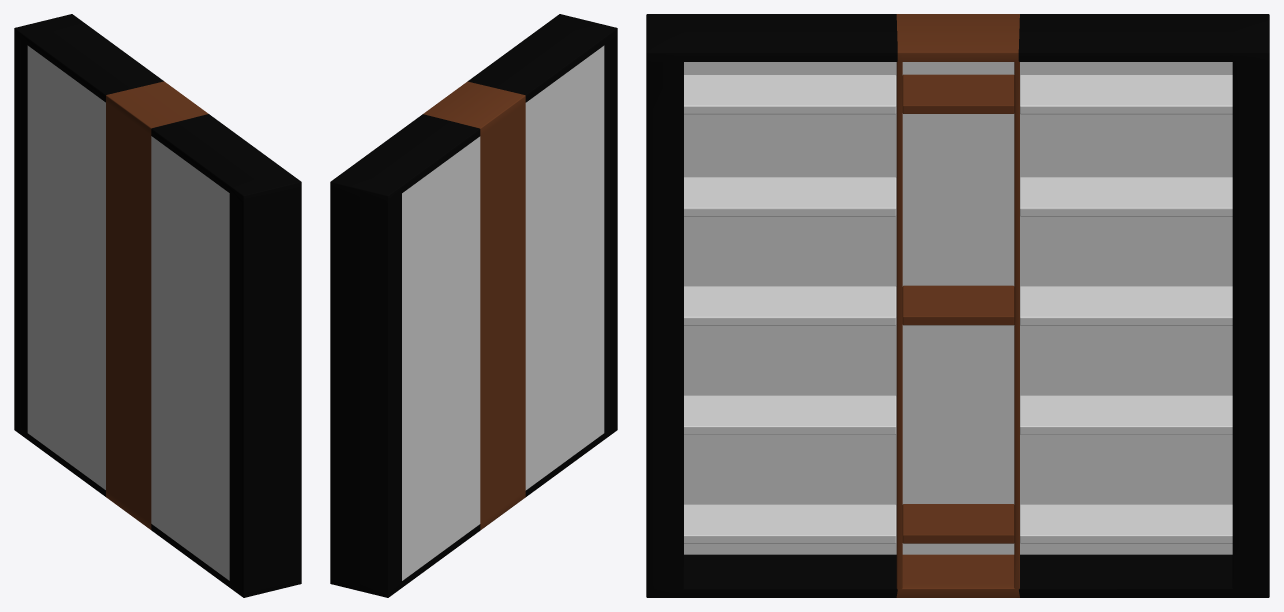
The picture shows the model from 3 angles, left to right: view 1: azimuth 30°, elevation 25°; view 2: azimuth 150°, elevation 25°; view 3: azimuth 270°, elevation 25°; orthographic projection. The views are drawn at different scales.
Parts seen in each view (by area): view 1: lux_shelf; view 2: lux_shelf; view 3: lux_shelf.
Boxes of the visible parts, <box> form: lux_shelf: <box>14,14,301,597</box>; lux_shelf: <box>330,14,617,597</box>; lux_shelf: <box>646,14,1269,597</box>.
Size of the model in its own units: 0.2937 by 1.93 by 2.
